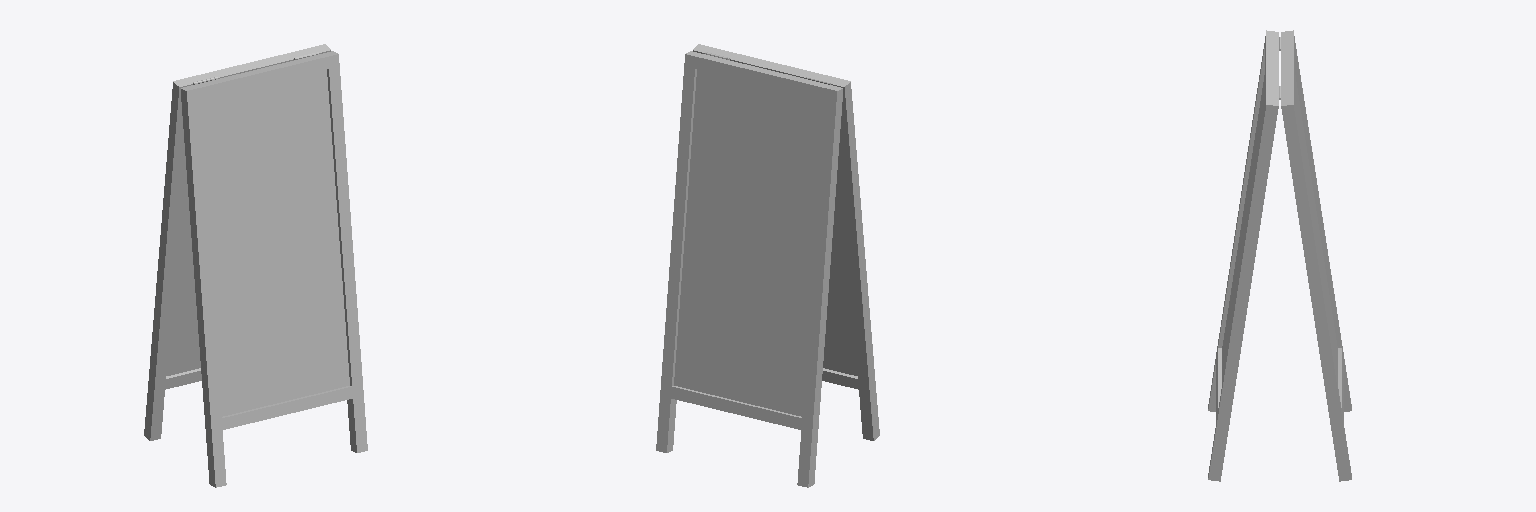
File: Caffe.obj
The picture shows the model from 3 angles: view 1: azimuth 30°, elevation 25°; view 2: azimuth 150°, elevation 25°; view 3: azimuth 270°, elevation 25°; orthographic projection.
Visible parts, largest first — view 1: Chalkboard_sign_VC2_low1; view 2: Chalkboard_sign_VC2_low1; view 3: Chalkboard_sign_VC2_low1.
Part boxes in pixels (left/top/right/bottom): Chalkboard_sign_VC2_low1: left=144, top=44, right=367, bottom=487; Chalkboard_sign_VC2_low1: left=656, top=44, right=879, bottom=487; Chalkboard_sign_VC2_low1: left=1208, top=30, right=1351, bottom=481.
Size of the model in its own units: 0.1512 by 0.3582 by 0.1236.